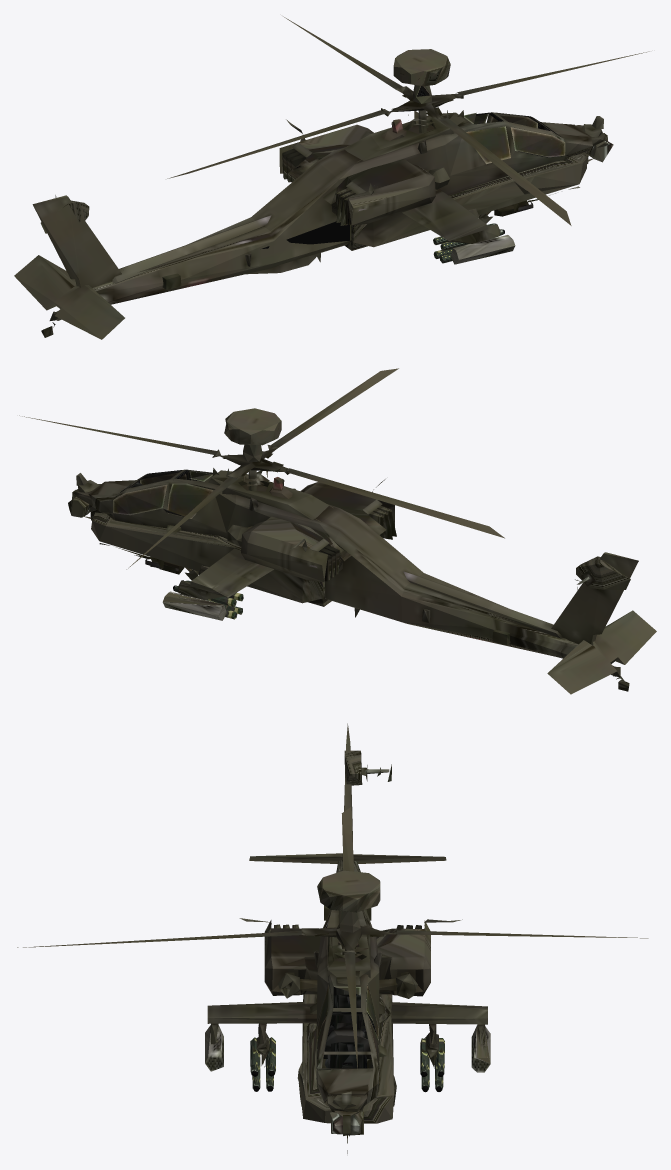
3 views of the same model, one above another, from view 1: azimuth 30°, elevation 25°; view 2: azimuth 150°, elevation 25°; view 3: azimuth 270°, elevation 25° (orthographic). The views are drawn at different scales.
Visible parts, largest first — view 1: Object_8, Object_7, Object_3, Object_2, Object_6; view 2: Object_8, Object_7, Object_3, Object_6; view 3: Object_8, Object_7, Object_6, Object_3.
Boxes of the visible parts, <box> form: Object_8: <box>14,16,649,339</box>; Object_7: <box>393,49,565,264</box>; Object_3: <box>358,112,565,211</box>; Object_2: <box>262,221,349,248</box>; Object_6: <box>433,223,503,263</box>; Object_8: <box>19,368,656,694</box>; Object_7: <box>109,408,281,620</box>; Object_3: <box>113,471,317,567</box>; Object_6: <box>174,580,243,619</box>; Object_8: <box>17,723,648,1153</box>; Object_7: <box>205,870,490,1078</box>; Object_6: <box>250,1037,444,1090</box>; Object_3: <box>316,984,379,1082</box>.
Bounding box in the file's own units: 2.39 × 0.6724 × 1.88.
Materials: 6 (4 with a texture image).
